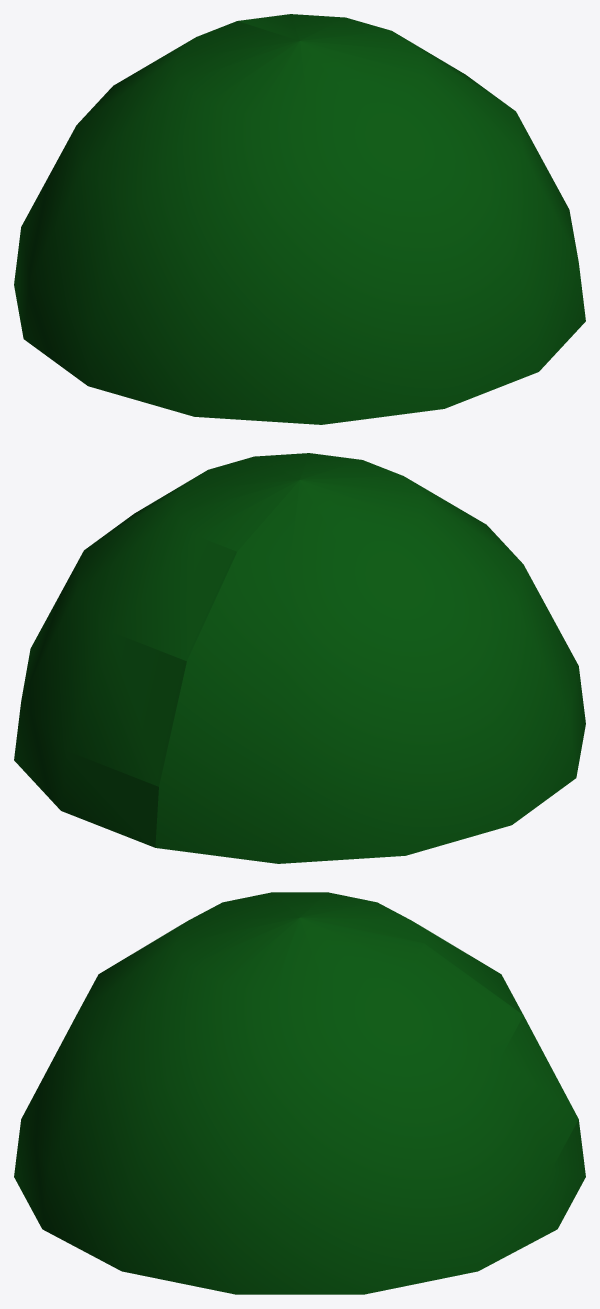
File: Cespuglio 1.DAE
3 renders of one model, top to bottom at view 1: azimuth 30°, elevation 25°; view 2: azimuth 150°, elevation 25°; view 3: azimuth 270°, elevation 25°, orthographic.
Parts seen in each view (by area): view 1: Sphere023; view 2: Sphere023; view 3: Sphere023.
Boxes of the visible parts, <box> form: Sphere023: <box>14,14,585,424</box>; Sphere023: <box>14,453,585,863</box>; Sphere023: <box>14,892,585,1294</box>.
Size of the model in its own units: 24.1 by 12.36 by 24.72.
